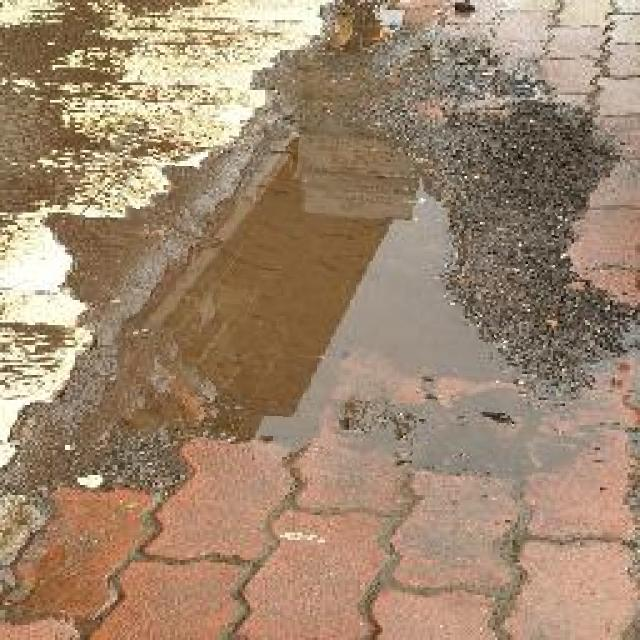puddle: (117, 123, 590, 478)
